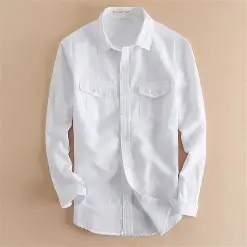kemeja_benar: (47, 7, 209, 223)
